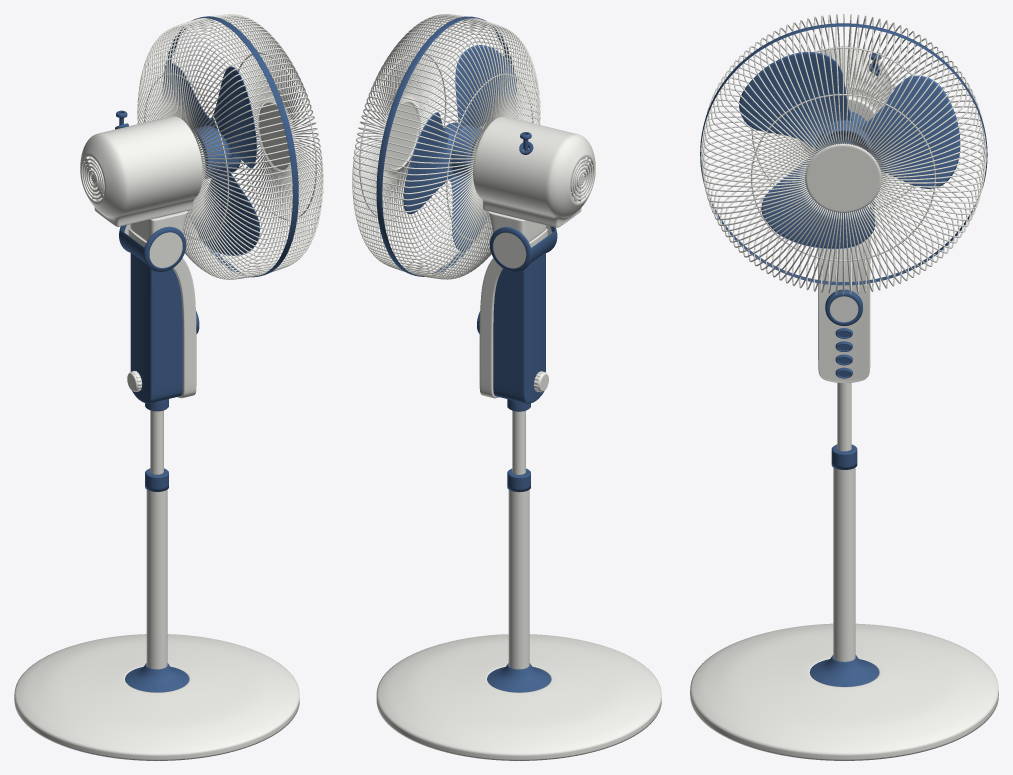
Rendered from fan.glb.
3 renders of one model, left to right at view 1: azimuth 30°, elevation 25°; view 2: azimuth 150°, elevation 25°; view 3: azimuth 270°, elevation 25°, orthographic. The views are drawn at different scales.
Visible parts, largest first — view 1: Base Stand_8, Grille cover_2, Motor Housing_4, Propeller_7, Outer Washer Ring_6, Center Cap_0; view 2: Base Stand_8, Grille cover_2, Motor Housing_4, Propeller_7, Outer Washer Ring_6, Center Cap_0; view 3: Base Stand_8, Grille cover_2, Propeller_7, Center Cap_0, Outer Washer Ring_6, control knobs_1, Motor Housing_4.
Boxes of the visible parts, x1,y1,x2,y2 form: Base Stand_8: [14, 224, 299, 760]; Grille cover_2: [137, 14, 323, 279]; Motor Housing_4: [80, 116, 205, 241]; Propeller_7: [162, 62, 260, 255]; Outer Washer Ring_6: [162, 16, 298, 277]; Center Cap_0: [258, 102, 290, 170]; Base Stand_8: [376, 225, 661, 760]; Grille cover_2: [352, 14, 540, 279]; Motor Housing_4: [470, 116, 595, 241]; Propeller_7: [403, 45, 516, 251]; Outer Washer Ring_6: [376, 16, 516, 276]; Center Cap_0: [385, 102, 419, 169]; Base Stand_8: [690, 201, 998, 760]; Grille cover_2: [701, 14, 986, 294]; Propeller_7: [739, 52, 960, 248]; Center Cap_0: [805, 143, 881, 212]; Outer Washer Ring_6: [700, 23, 987, 285]; control knobs_1: [825, 289, 862, 378]; Motor Housing_4: [800, 46, 891, 155].
Bounding box in the file's own units: 0.5075 × 1.29 × 0.5075.
